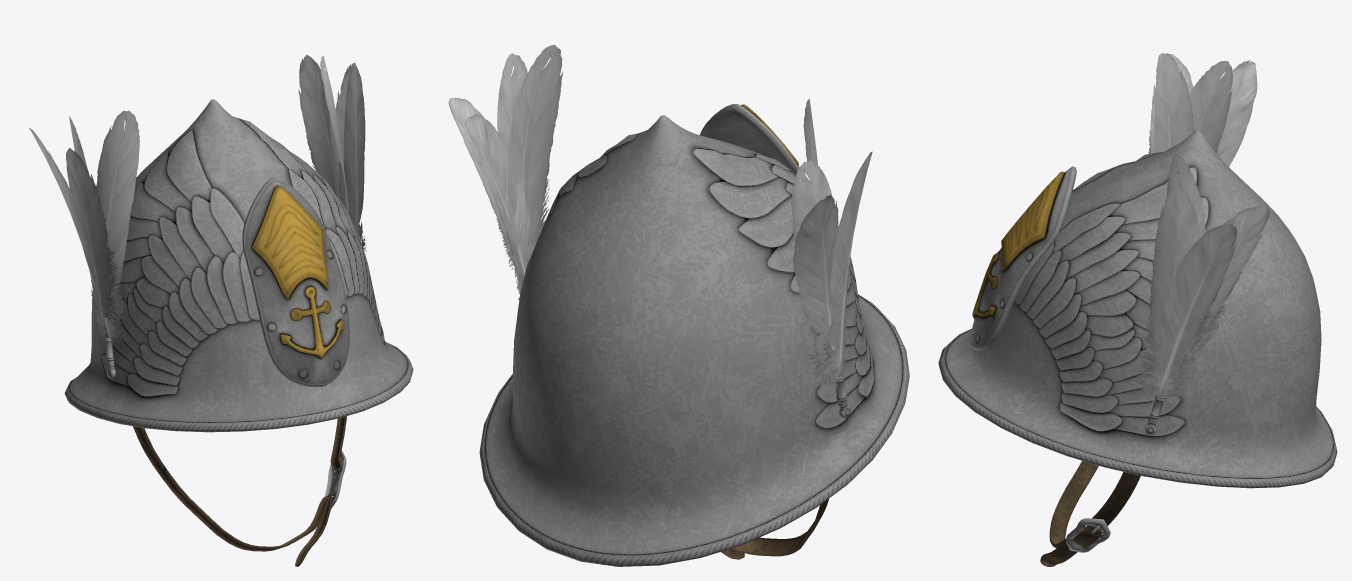
Rendered from pelargirmarine_helmet_6_b_plume.fbx.
3 renders of one model, left to right at view 1: azimuth 30°, elevation 25°; view 2: azimuth 150°, elevation 25°; view 3: azimuth 270°, elevation 25°, orthographic. The views are drawn at different scales.
Visible parts, largest first — view 1: pelargirmarine_helmet_6_b_plume.1, pelargirmarine_helmet_6_b_plume.0; view 2: pelargirmarine_helmet_6_b_plume.1, pelargirmarine_helmet_6_b_plume.0; view 3: pelargirmarine_helmet_6_b_plume.1, pelargirmarine_helmet_6_b_plume.0.
Part boxes in pixels (left/top/right/bottom): pelargirmarine_helmet_6_b_plume.1: left=64, top=99, right=413, bottom=566; pelargirmarine_helmet_6_b_plume.0: left=29, top=55, right=366, bottom=378; pelargirmarine_helmet_6_b_plume.1: left=479, top=104, right=909, bottom=566; pelargirmarine_helmet_6_b_plume.0: left=448, top=45, right=872, bottom=418; pelargirmarine_helmet_6_b_plume.1: left=938, top=131, right=1337, bottom=566; pelargirmarine_helmet_6_b_plume.0: left=1134, top=53, right=1270, bottom=434.
Size of the model in its own units: 0.3033 by 0.3046 by 0.4081.
2 materials, 2 textured.
